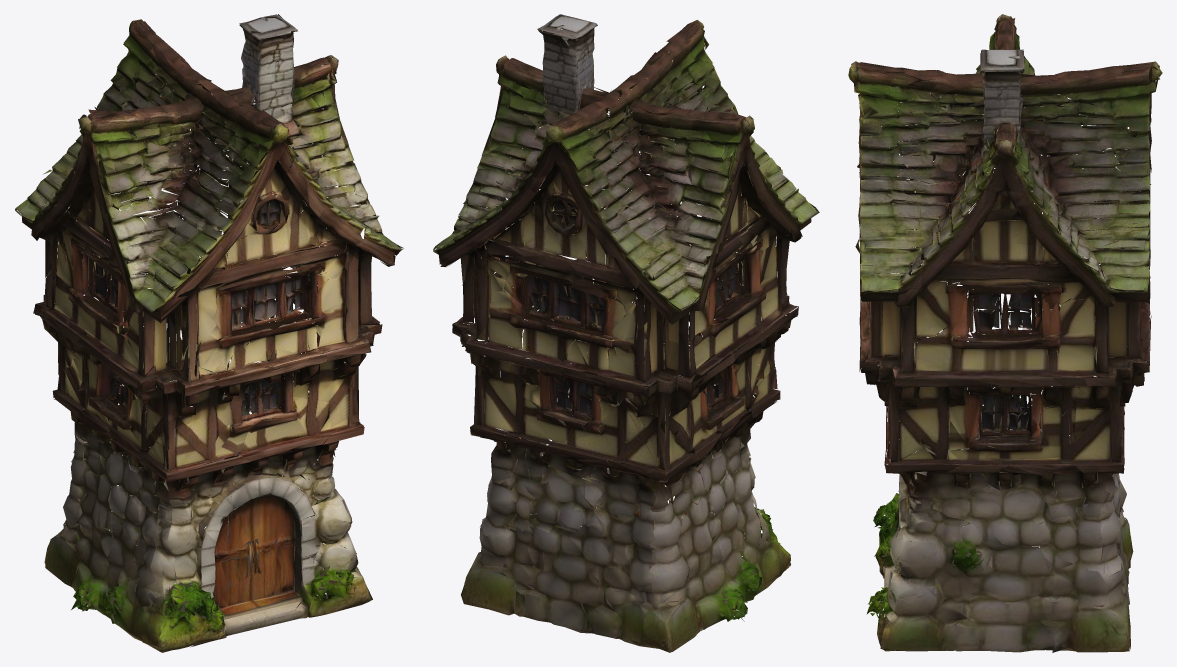
The model's file is Timberstone_Tower_Hou_town.glb.
3 views of the same model, side by side, from view 1: azimuth 30°, elevation 25°; view 2: azimuth 150°, elevation 25°; view 3: azimuth 270°, elevation 25° (orthographic). The views are drawn at different scales.
Parts seen in each view (by area): view 1: Timberstone_Tower_Hou; view 2: Timberstone_Tower_Hou; view 3: Timberstone_Tower_Hou.
Part boxes in pixels (box(x1,y1,x2,y2)): Timberstone_Tower_Hou: box(15, 14, 403, 652); Timberstone_Tower_Hou: box(433, 14, 819, 652); Timberstone_Tower_Hou: box(848, 14, 1162, 652).
Bounding box in the file's own units: 0.941 × 1.92 × 0.951.
Materials: 1 (1 with a texture image).
